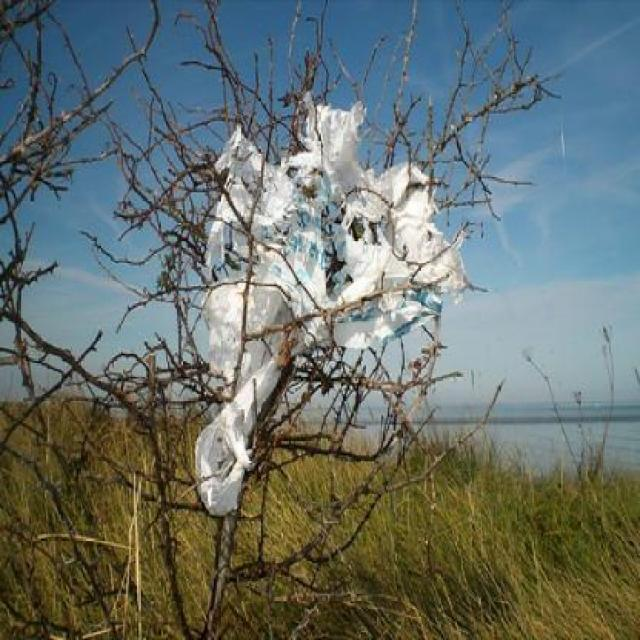plastic bag: (192, 91, 468, 511)
